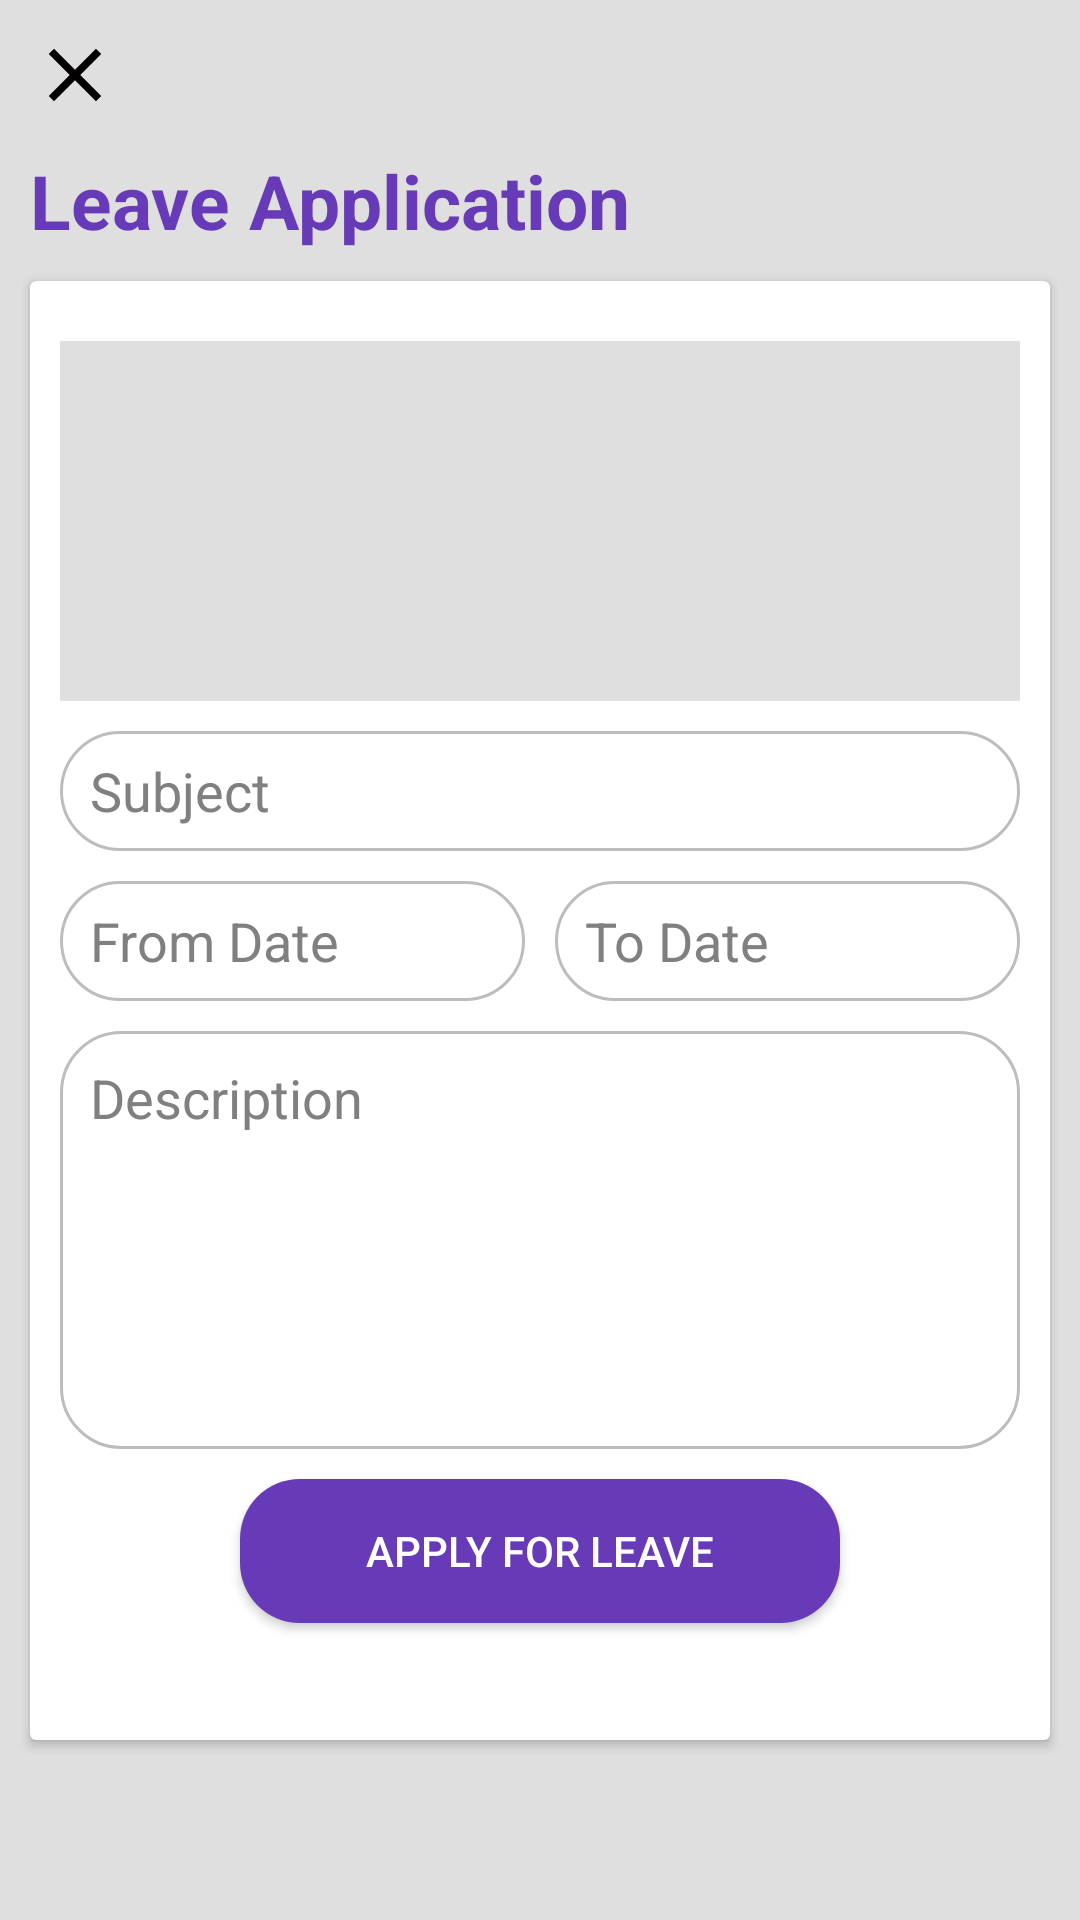

Where to tap for icons on this 1080 x 1920 app screen, as (x=x, y=y):
close: (x=75, y=75)
